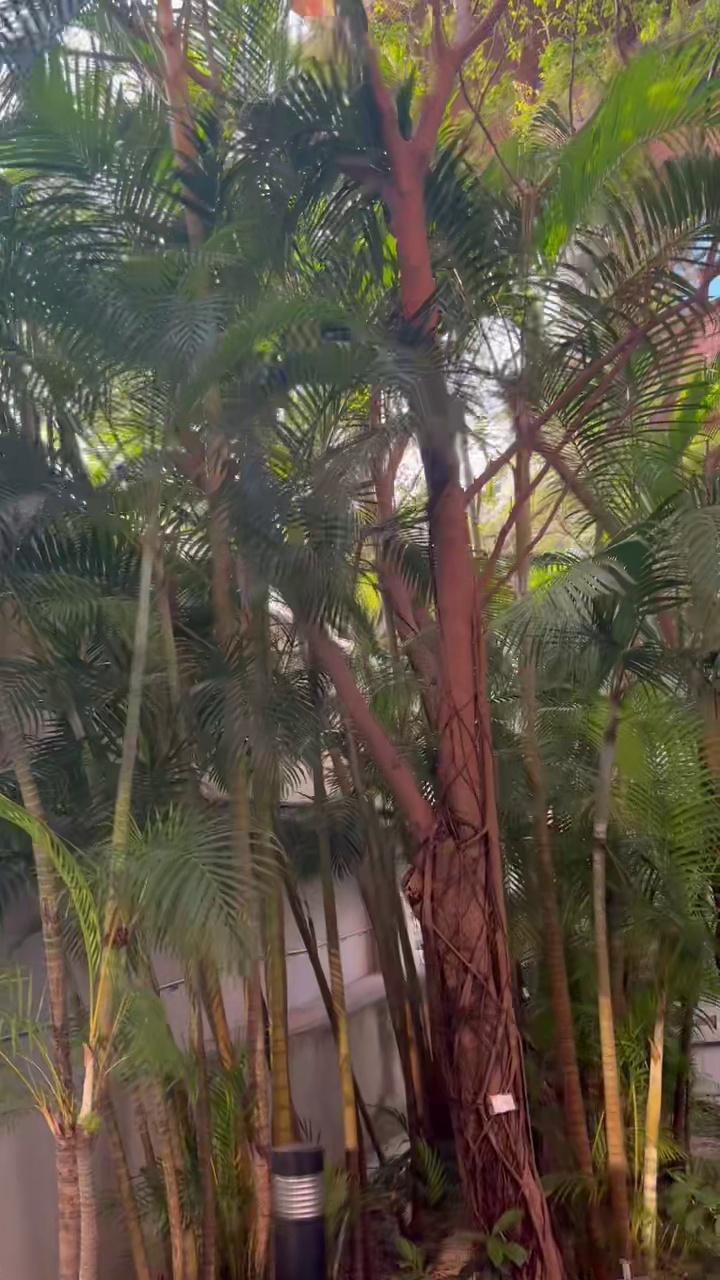Ficus benjamina: (309, 0, 563, 1279)
